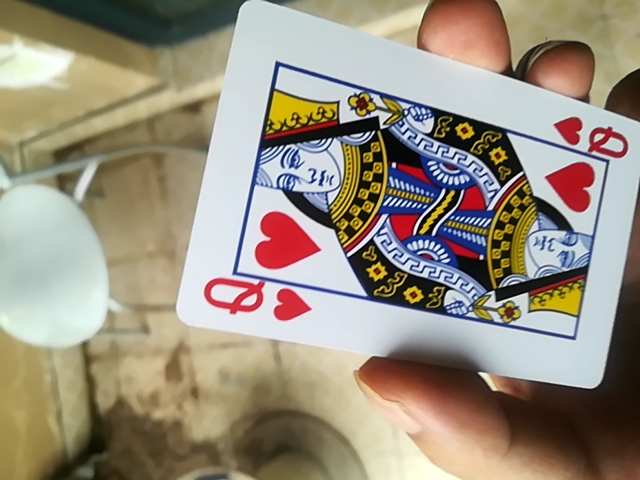hx q: (180, 5, 640, 399)
